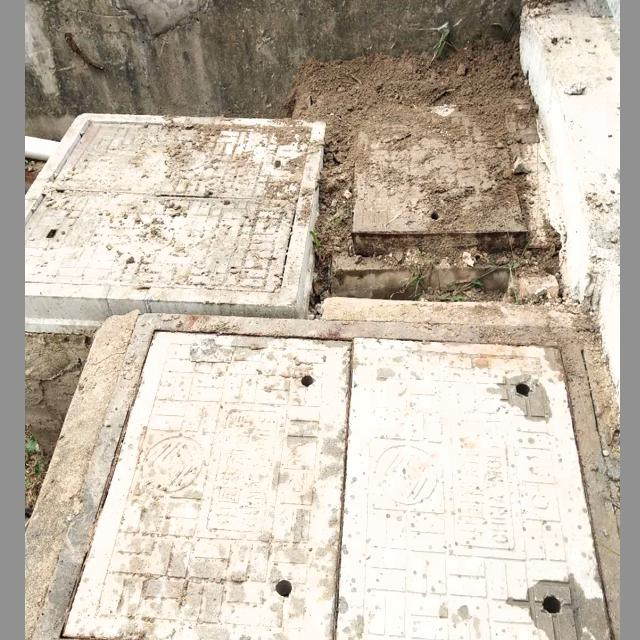good: (26, 311, 620, 640), (25, 112, 326, 317)
